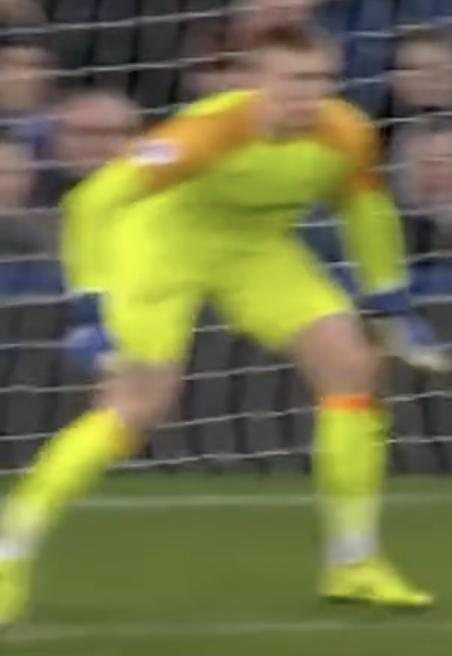goalkeeper: (0, 13, 452, 622)
